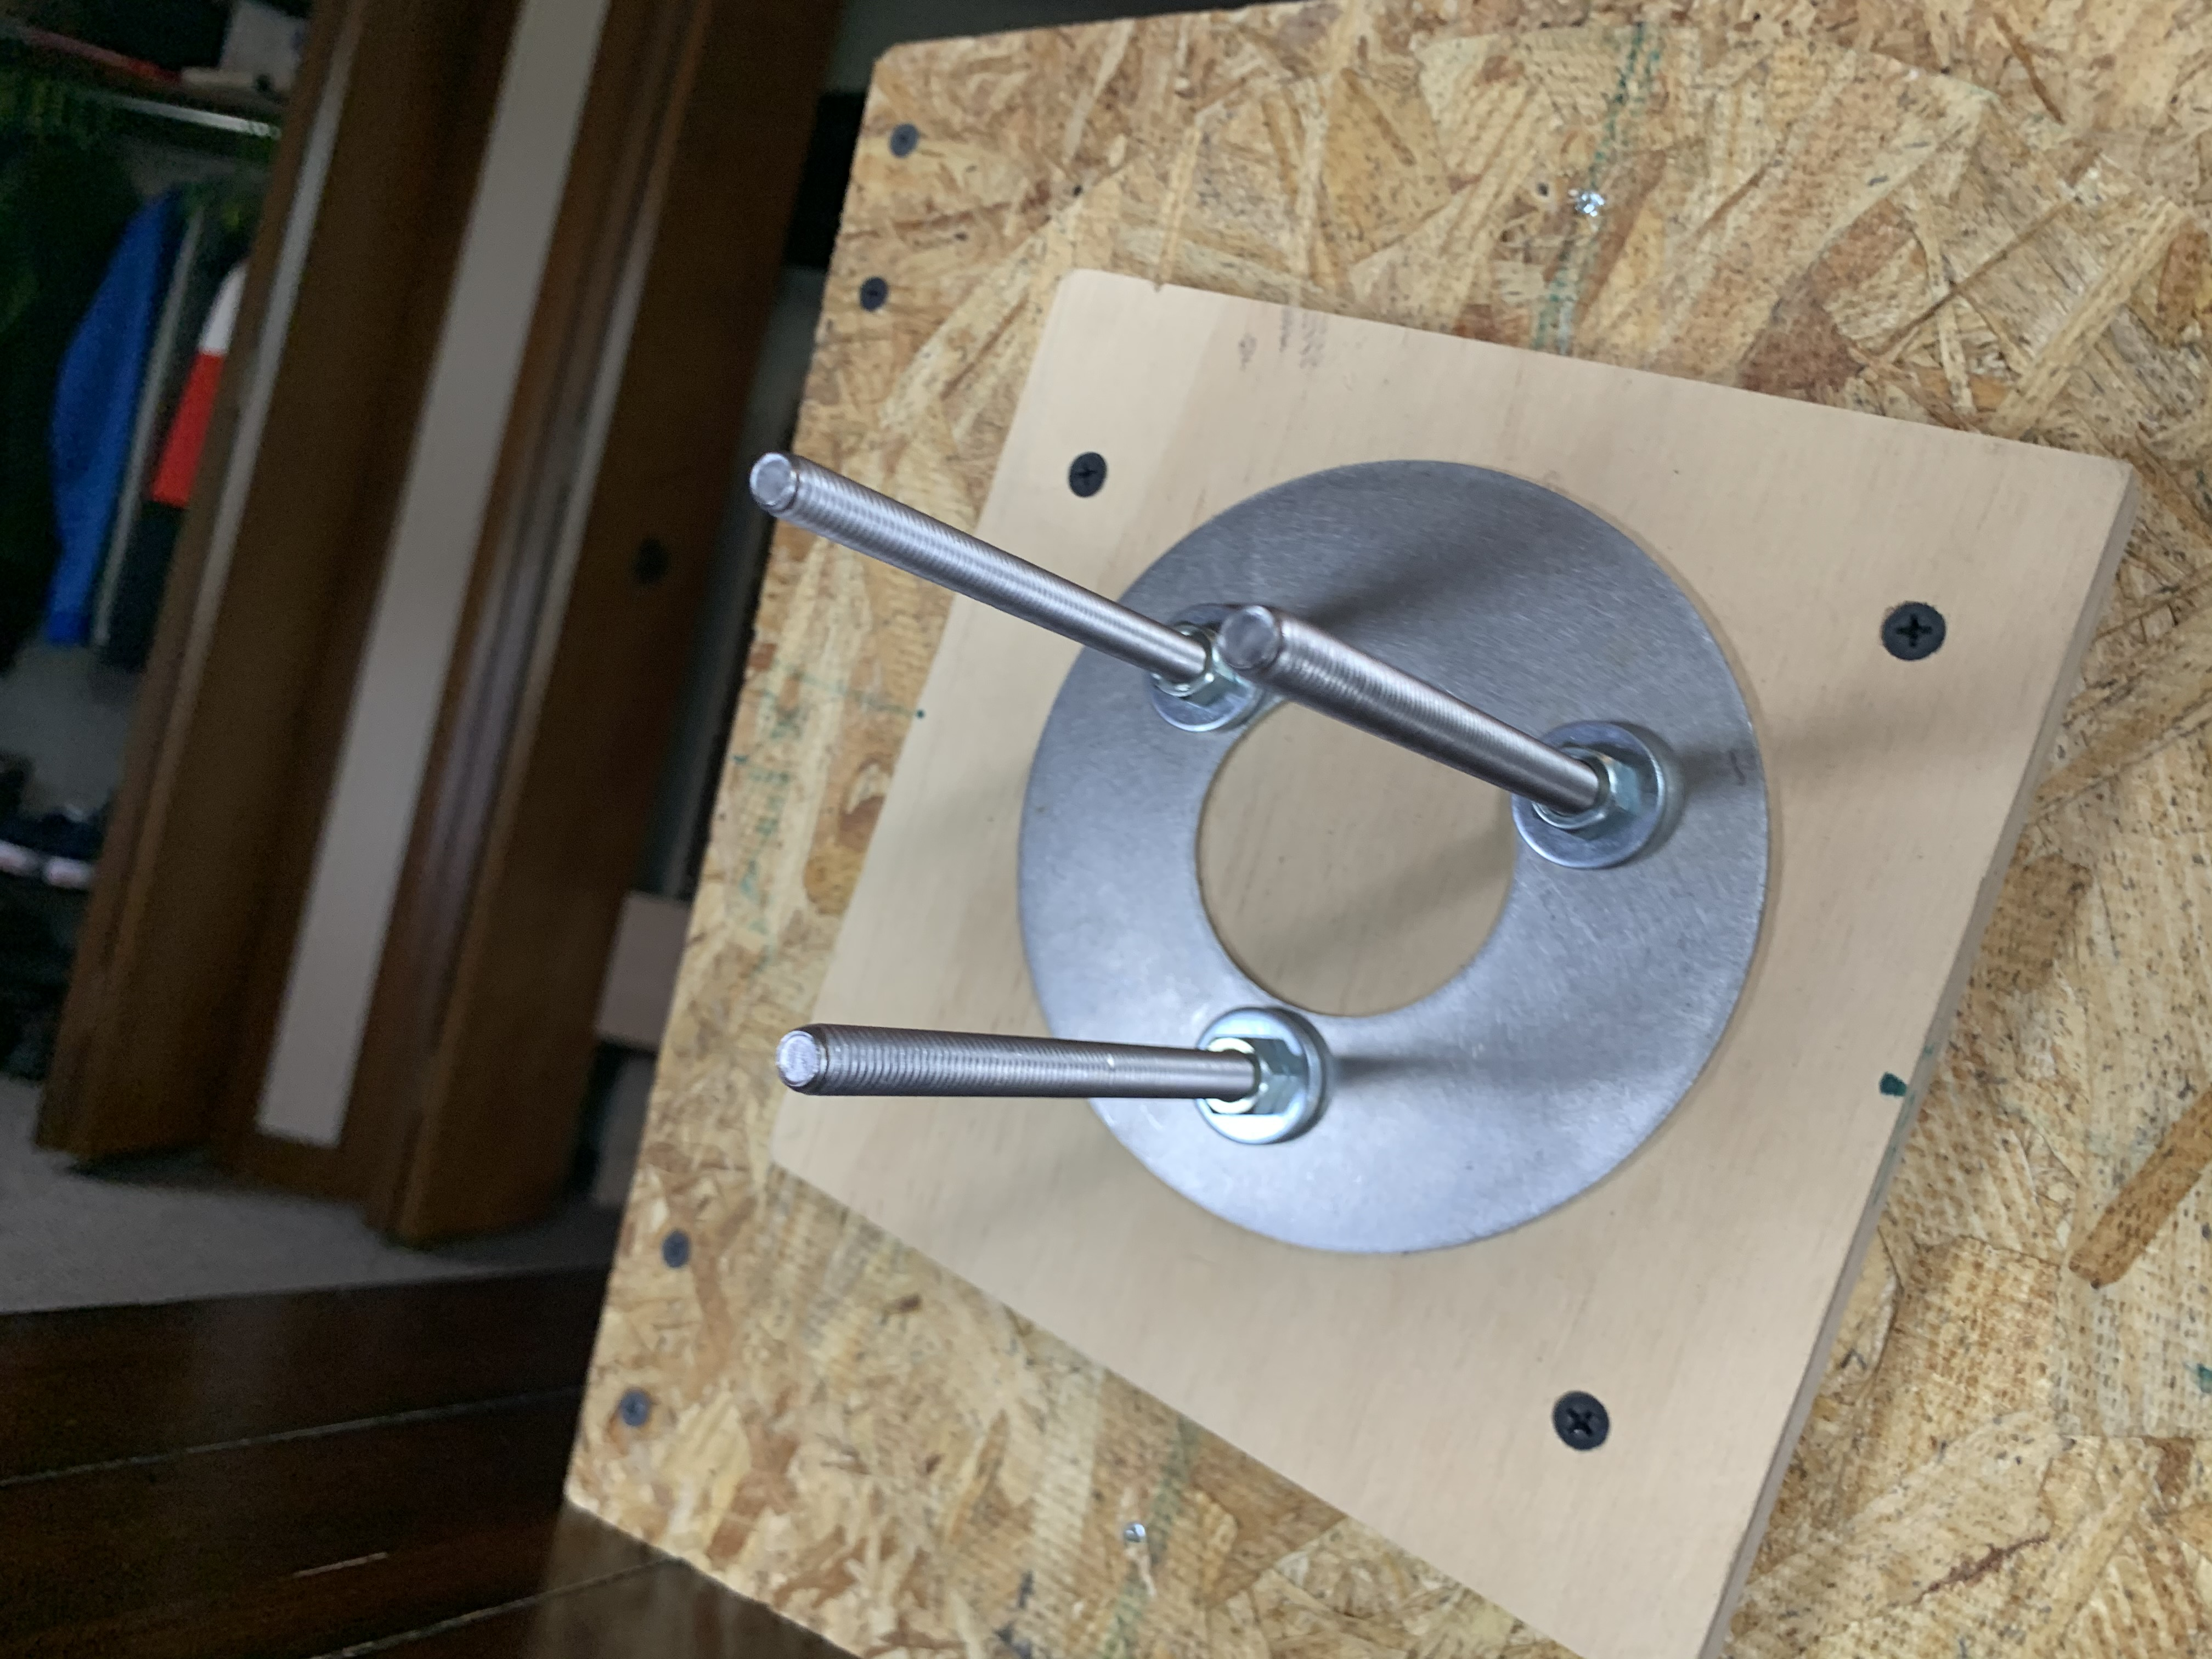bolt: (1510, 718, 1677, 866), (1191, 1006, 1332, 1152), (1144, 603, 1275, 734)
